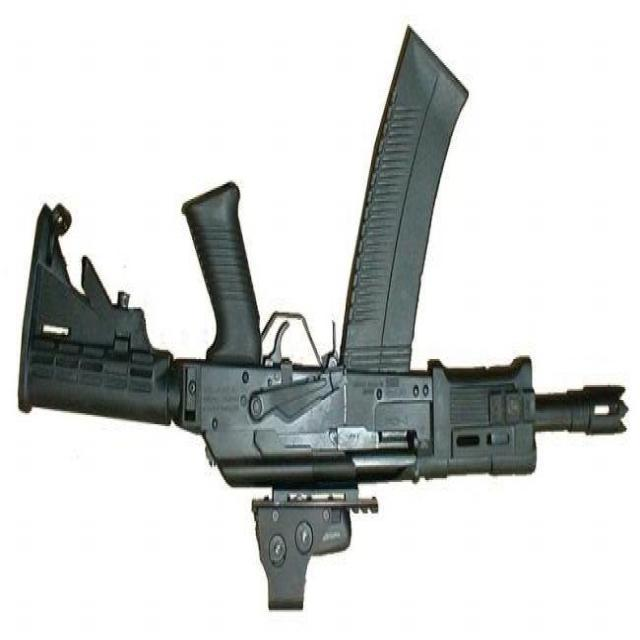weapon: (17, 22, 630, 614)
